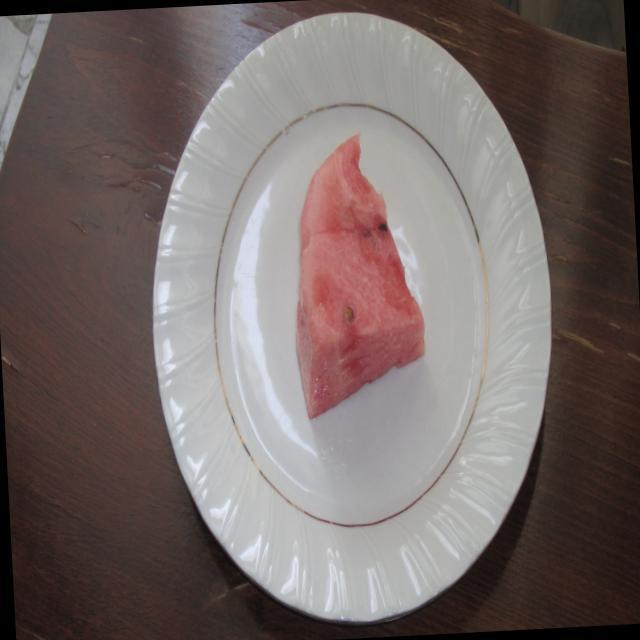Watermelon: (269, 111, 448, 444)
